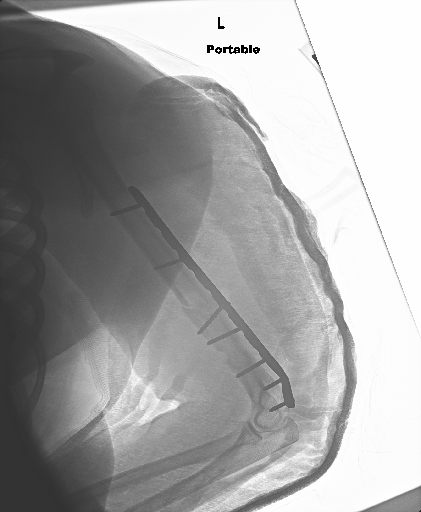implant: (104, 170, 301, 417), (194, 285, 299, 414), (109, 178, 152, 222)
